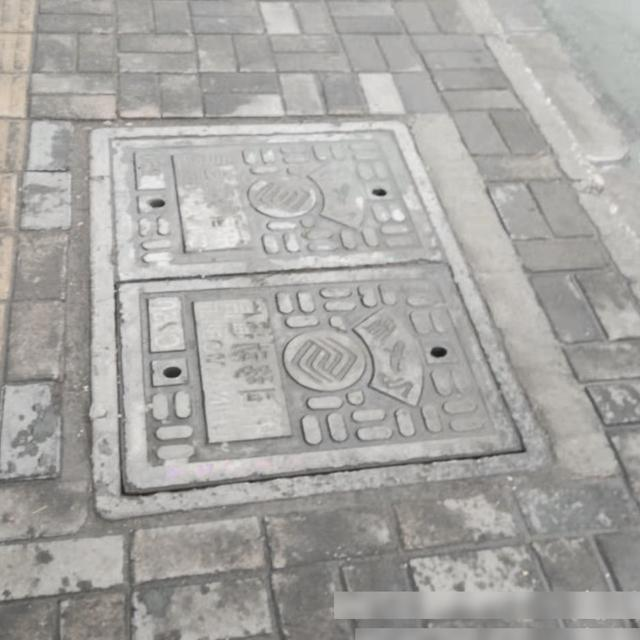good: (90, 120, 557, 521)
